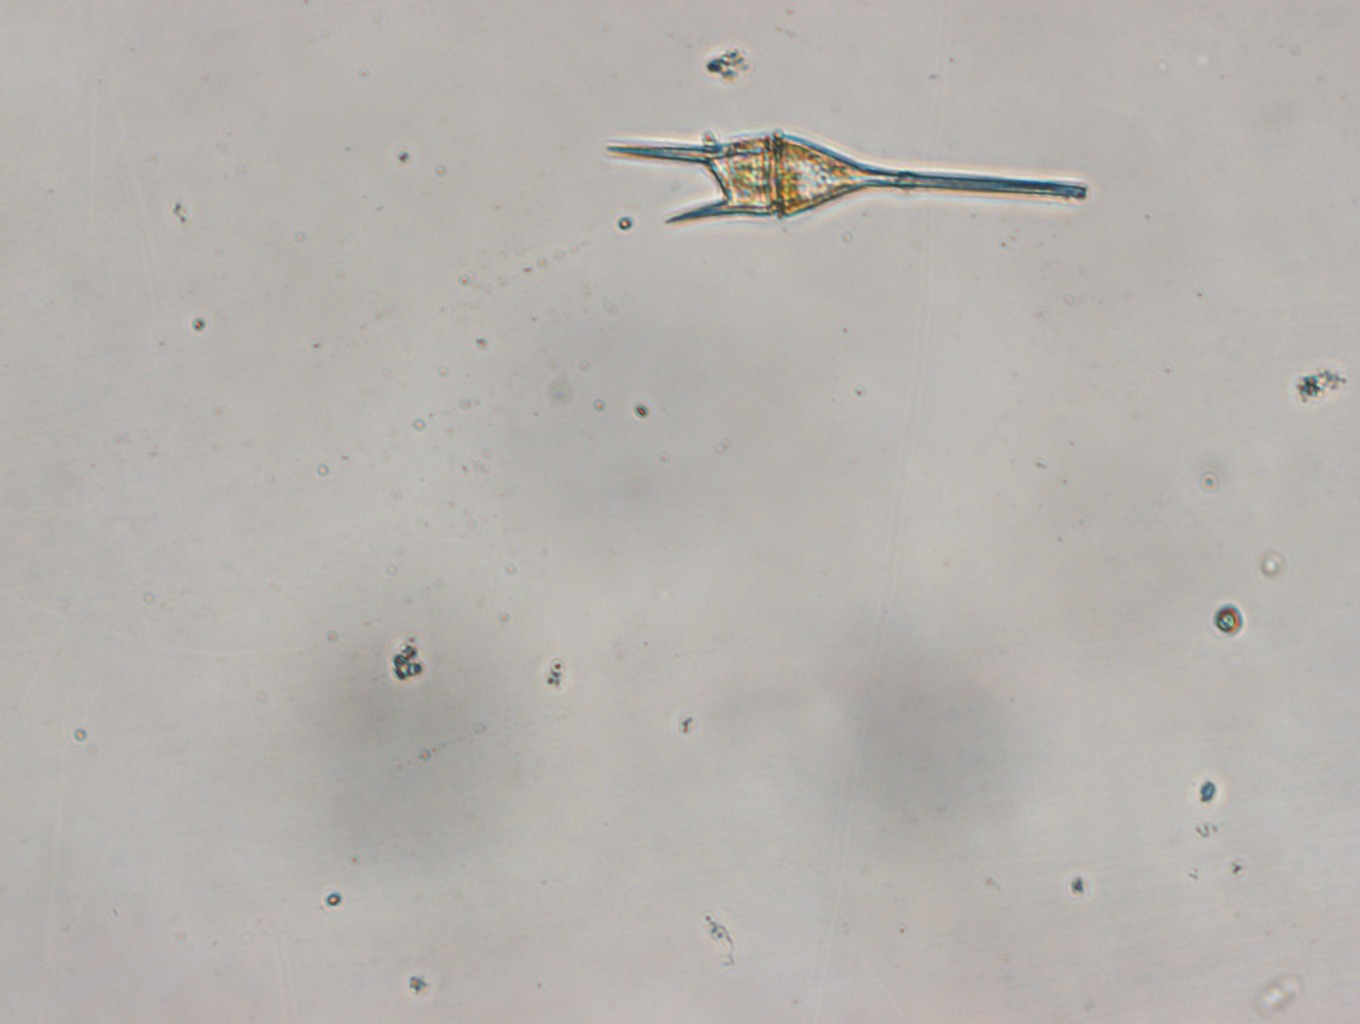ceratium furca: (606, 129, 1087, 227)
